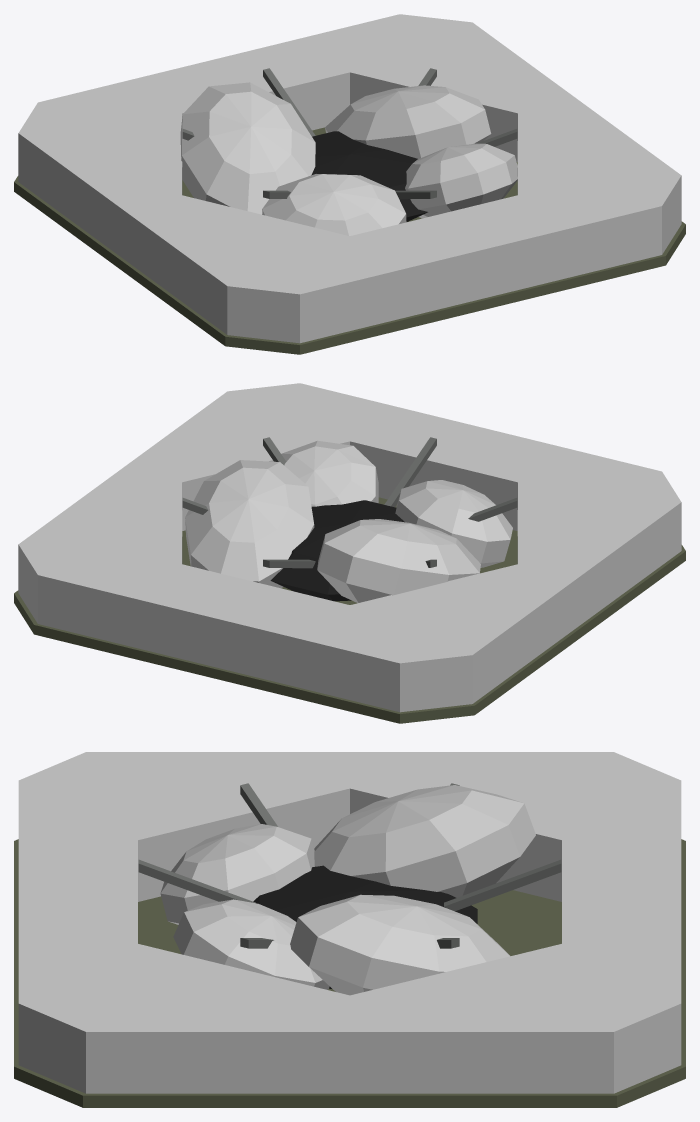
File: cerebrex_core_destroyed.obj
3 renders of one model, top to bottom at view 1: azimuth 30°, elevation 25°; view 2: azimuth 150°, elevation 25°; view 3: azimuth 270°, elevation 25°, orthographic. The views are drawn at different scales.
Parts seen in each view (by area): view 1: cerebrex_core_destroyed_11, cerebrex_core_destroyed_17, cerebrex_core_destroyed_7, cerebrex_core_destroyed_8, cerebrex_core_destroyed_4, cerebrex_core_destroyed_0, cerebrex_core_destroyed_18, cerebrex_core_destroyed_1, cerebrex_core_destroyed_9, cerebrex_core_destroyed_14, cerebrex_core_destroyed_19, cerebrex_core_destroyed_20 (+9 smaller); view 2: cerebrex_core_destroyed_4, cerebrex_core_destroyed_11, cerebrex_core_destroyed_8, cerebrex_core_destroyed_7, cerebrex_core_destroyed_18, cerebrex_core_destroyed_17, cerebrex_core_destroyed_0, cerebrex_core_destroyed_6, cerebrex_core_destroyed_14, cerebrex_core_destroyed_1, cerebrex_core_destroyed_19, cerebrex_core_destroyed_2 (+9 smaller); view 3: cerebrex_core_destroyed_1, cerebrex_core_destroyed_14, cerebrex_core_destroyed_0, cerebrex_core_destroyed_17, cerebrex_core_destroyed_4, cerebrex_core_destroyed_11, cerebrex_core_destroyed_18, cerebrex_core_destroyed_8, cerebrex_core_destroyed_2, cerebrex_core_destroyed_13, cerebrex_core_destroyed_7, cerebrex_core_destroyed_19 (+11 smaller).
Part boxes in pixels (bbox=[...]): cerebrex_core_destroyed_11: bbox=[350, 195, 612, 330]; cerebrex_core_destroyed_17: bbox=[180, 82, 315, 214]; cerebrex_core_destroyed_7: bbox=[18, 133, 182, 258]; cerebrex_core_destroyed_8: bbox=[123, 195, 287, 334]; cerebrex_core_destroyed_4: bbox=[88, 26, 349, 130]; cerebrex_core_destroyed_0: bbox=[14, 127, 685, 354]; cerebrex_core_destroyed_18: bbox=[325, 85, 491, 158]; cerebrex_core_destroyed_1: bbox=[413, 22, 576, 161]; cerebrex_core_destroyed_9: bbox=[227, 221, 322, 343]; cerebrex_core_destroyed_14: bbox=[517, 99, 680, 175]; cerebrex_core_destroyed_19: bbox=[262, 174, 406, 235]; cerebrex_core_destroyed_20: bbox=[405, 143, 517, 218]; cerebrex_core_destroyed_4: bbox=[87, 564, 349, 699]; cerebrex_core_destroyed_11: bbox=[350, 395, 611, 530]; cerebrex_core_destroyed_8: bbox=[517, 502, 681, 627]; cerebrex_core_destroyed_7: bbox=[413, 564, 576, 703]; cerebrex_core_destroyed_18: bbox=[185, 460, 314, 588]; cerebrex_core_destroyed_17: bbox=[317, 519, 480, 602]; cerebrex_core_destroyed_0: bbox=[14, 497, 685, 723]; cerebrex_core_destroyed_6: bbox=[377, 590, 472, 712]; cerebrex_core_destroyed_14: bbox=[123, 391, 283, 530]; cerebrex_core_destroyed_1: bbox=[19, 468, 182, 544]; cerebrex_core_destroyed_19: bbox=[395, 480, 512, 567]; cerebrex_core_destroyed_2: bbox=[18, 534, 182, 623]; cerebrex_core_destroyed_1: bbox=[350, 963, 613, 1093]; cerebrex_core_destroyed_14: bbox=[86, 963, 349, 1093]; cerebrex_core_destroyed_0: bbox=[14, 839, 685, 1107]; cerebrex_core_destroyed_17: bbox=[314, 785, 535, 897]; cerebrex_core_destroyed_4: bbox=[562, 811, 681, 972]; cerebrex_core_destroyed_11: bbox=[18, 811, 137, 972]; cerebrex_core_destroyed_18: bbox=[290, 894, 510, 995]; cerebrex_core_destroyed_8: bbox=[86, 752, 349, 848]; cerebrex_core_destroyed_2: bbox=[484, 952, 681, 1093]; cerebrex_core_destroyed_13: bbox=[18, 952, 215, 1093]; cerebrex_core_destroyed_7: bbox=[350, 752, 613, 813]; cerebrex_core_destroyed_19: bbox=[160, 824, 314, 924].
Bounding box in the file's own units: 7 × 1.48 × 7.
